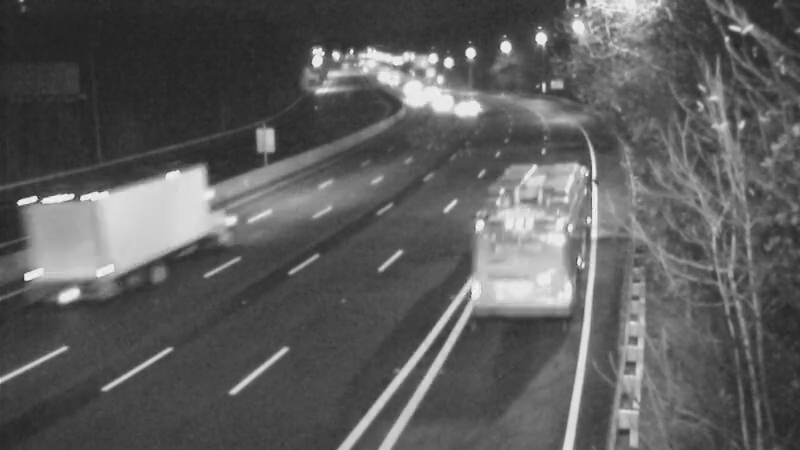vehicle: (471, 206, 551, 286), (106, 183, 186, 263), (387, 77, 437, 127), (419, 80, 469, 130), (438, 83, 488, 133)
